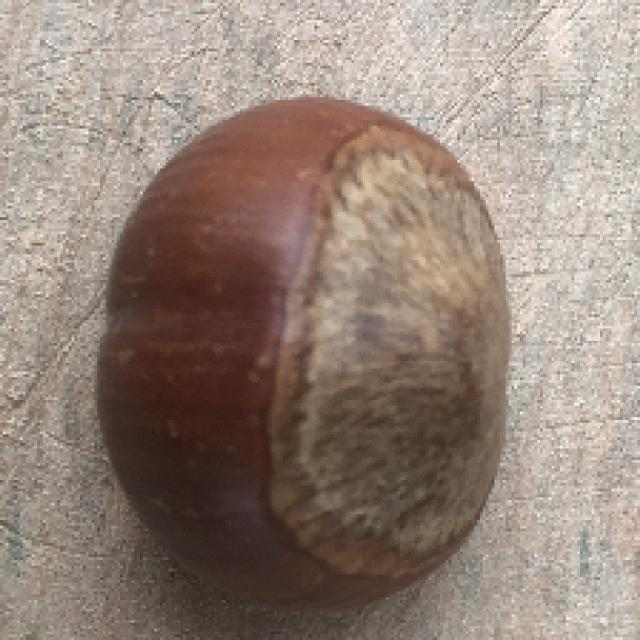qualityHazelnut: (99, 89, 519, 608)
